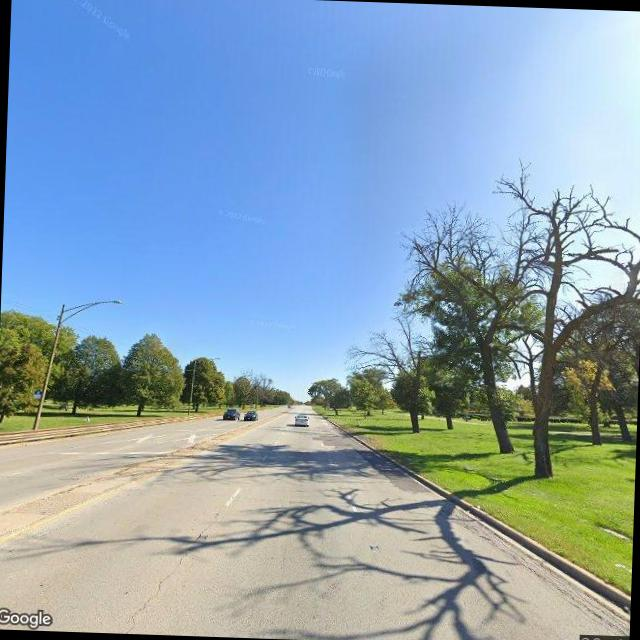pothole: (103, 472, 245, 636)
